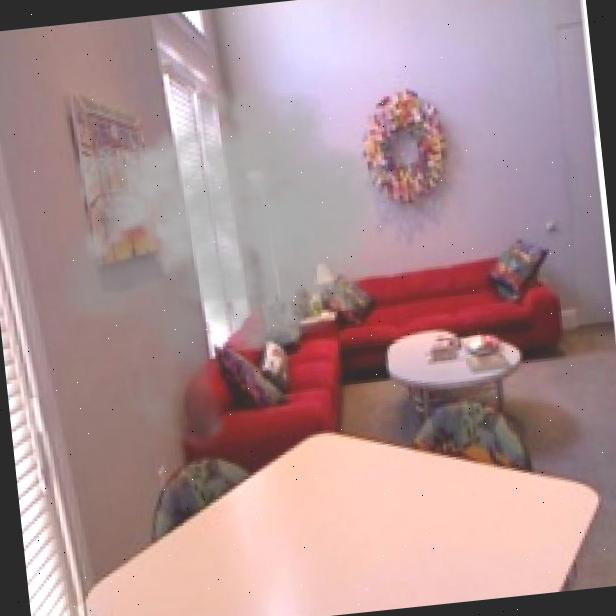smoke: (28, 61, 427, 468)
